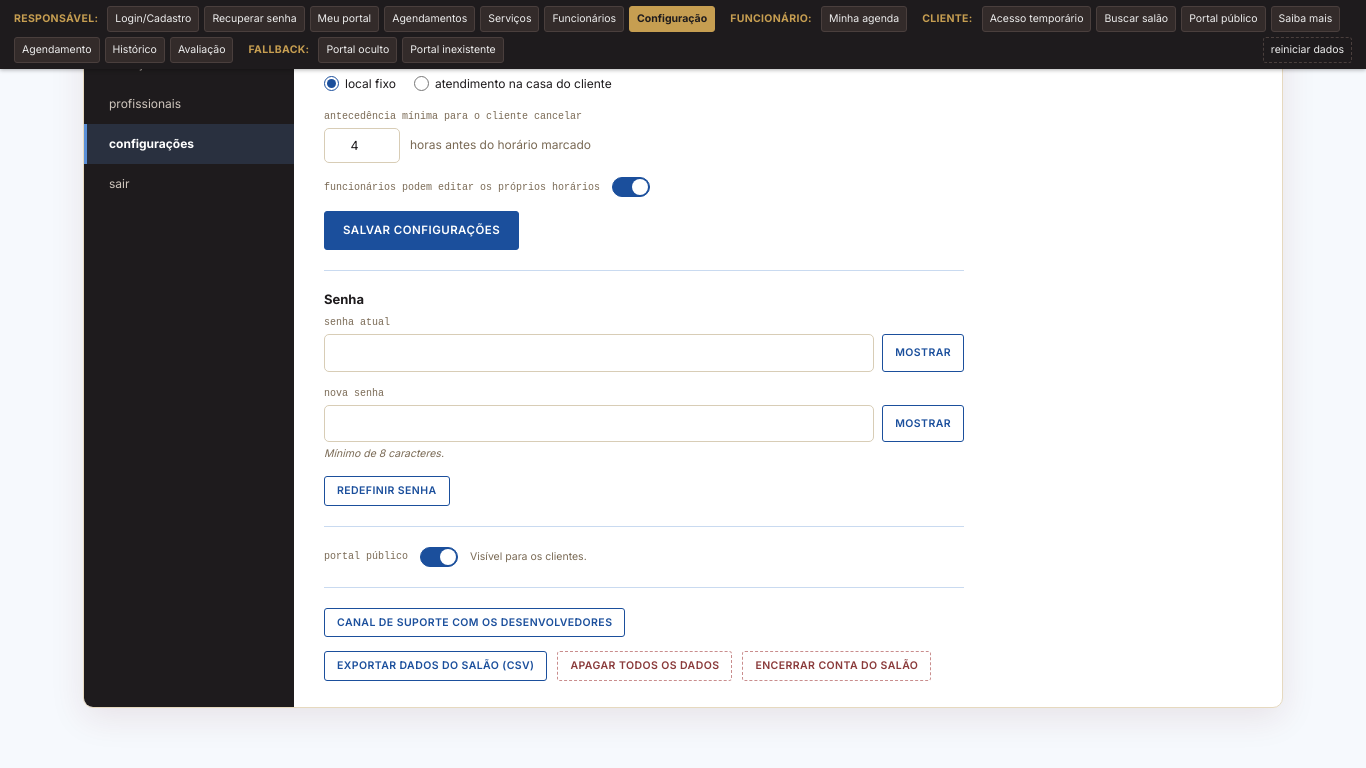
Test case: painel do responsavel › config nao deixa publicar portal sem servico vinculado e confirma apagar dados com palavra
The image size is (1366, 768).
(page scrolled)
Click the button "Apagar todos os dados".
click(645, 666)  # box [558,651,732,681]
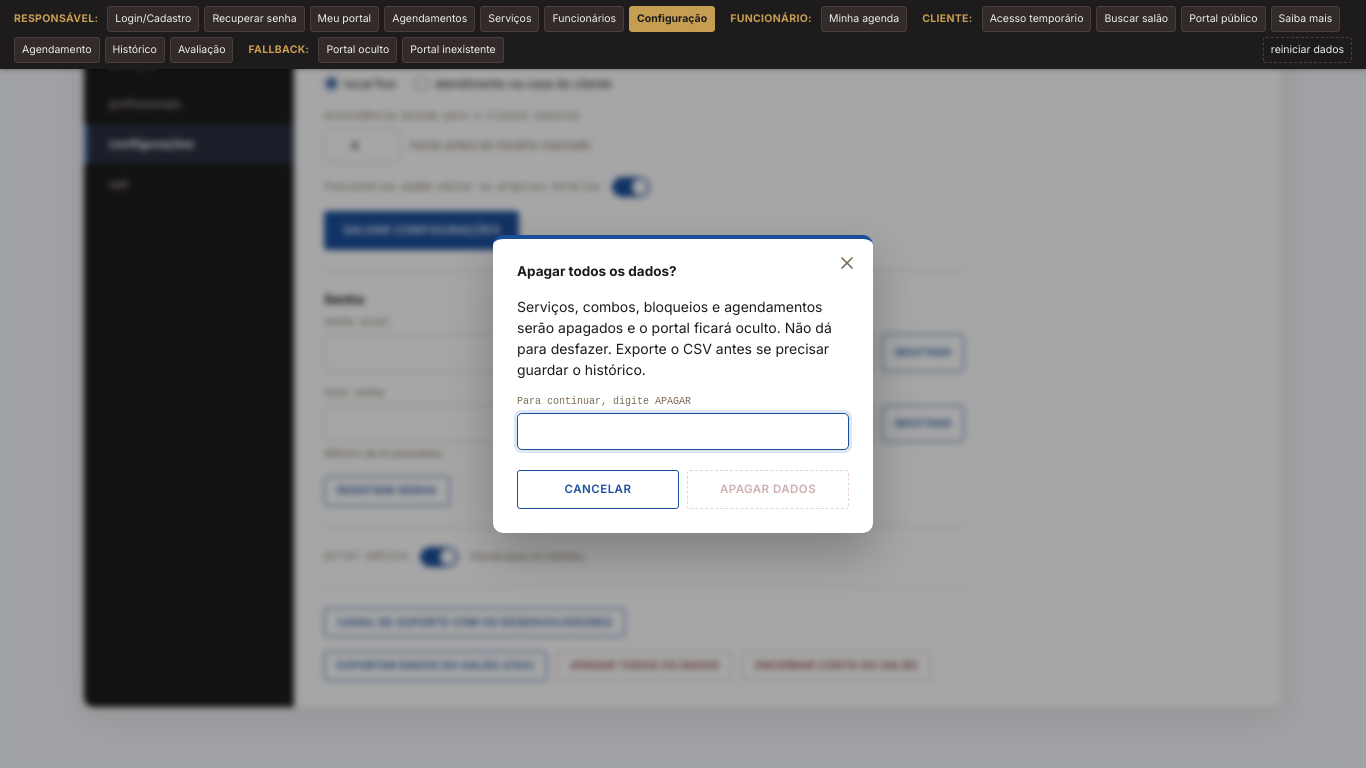
Expected: the button "Apagar dados" is disabled, [687,470,849,509]
Type "apagar" into the field labelled "Para continuar, digite APAGAR".
click(683, 431); type("apagar")  # box [517,413,849,450]
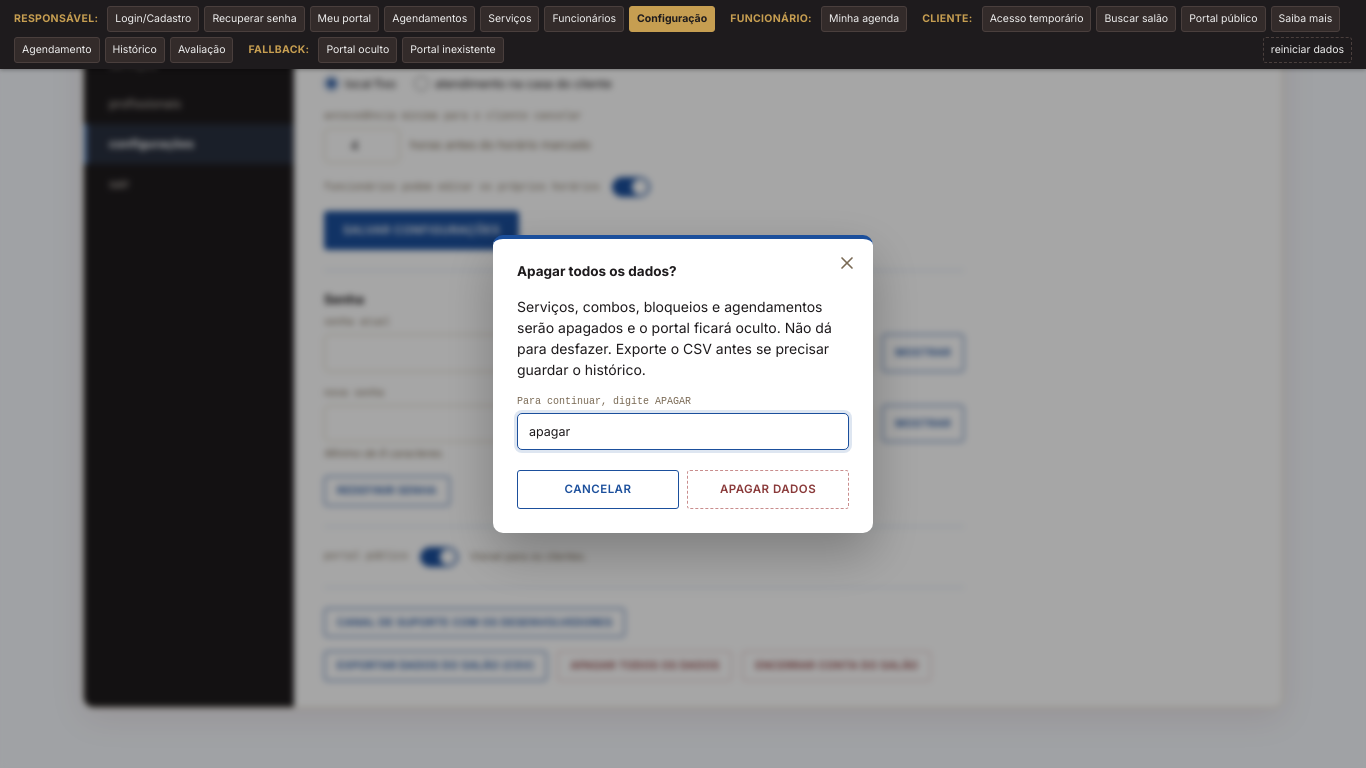
Expected: the button "Apagar dados" is enabled, [687,470,849,509]
